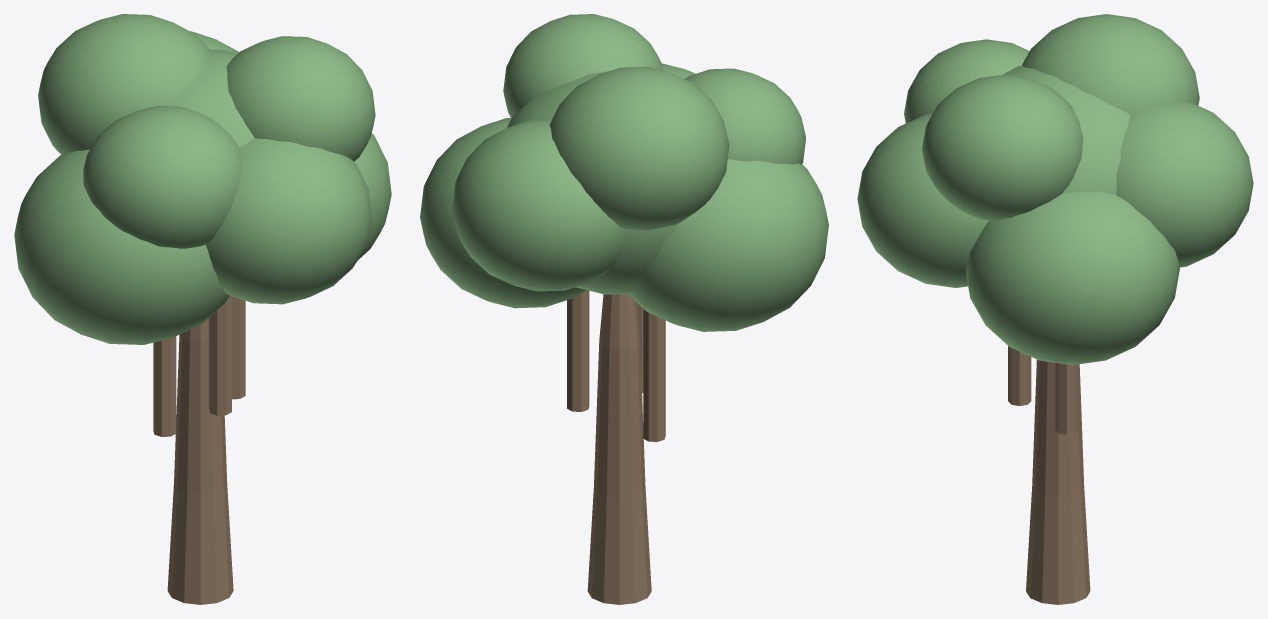
Rendered from Tree.fbx.
3 views of the same model, side by side, from view 1: azimuth 30°, elevation 25°; view 2: azimuth 150°, elevation 25°; view 3: azimuth 270°, elevation 25° (orthographic). The views are drawn at different scales.
Parts seen in each view (by area): view 1: Tree; view 2: Tree; view 3: Tree.
Boxes of the visible parts, x1,y1,x2,y2 form: Tree: (14, 14, 391, 604); Tree: (420, 14, 828, 604); Tree: (857, 14, 1253, 604).
Size of the model in its own units: 233 by 337 by 221.
